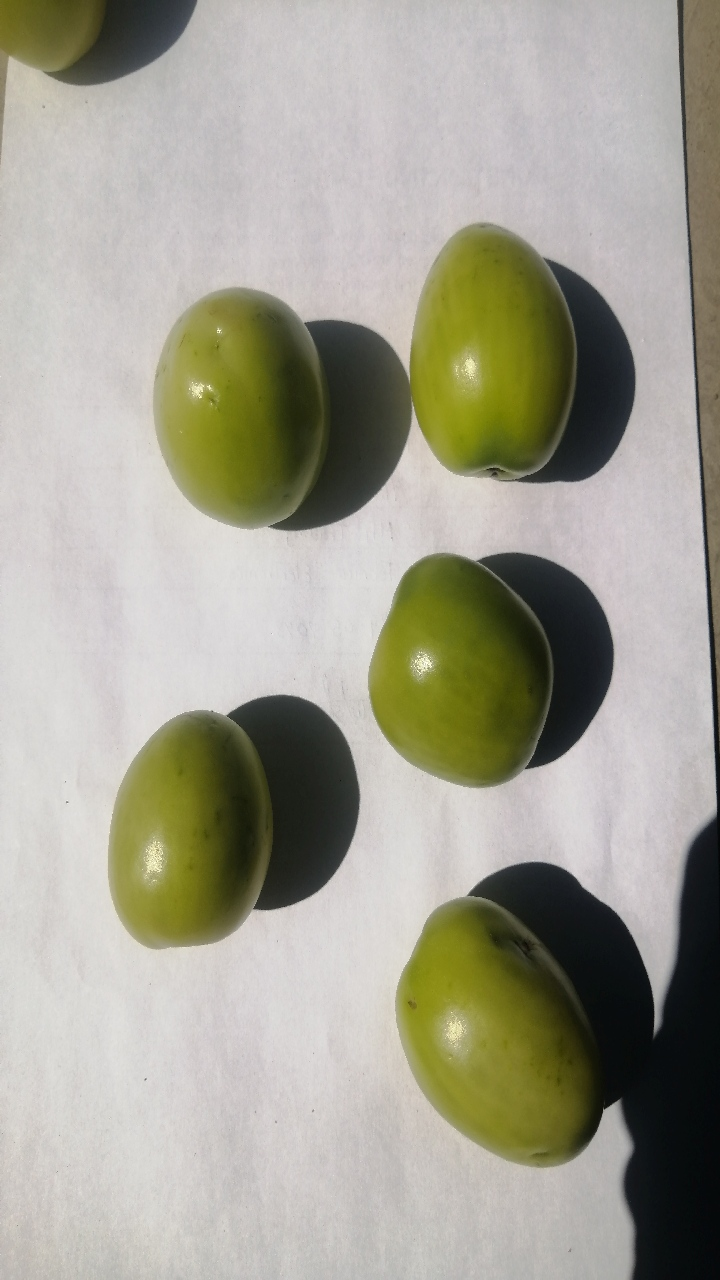tomateVerde: (372, 882, 617, 1185), (131, 268, 352, 568), (63, 680, 284, 962), (384, 219, 601, 502), (351, 539, 578, 805)
